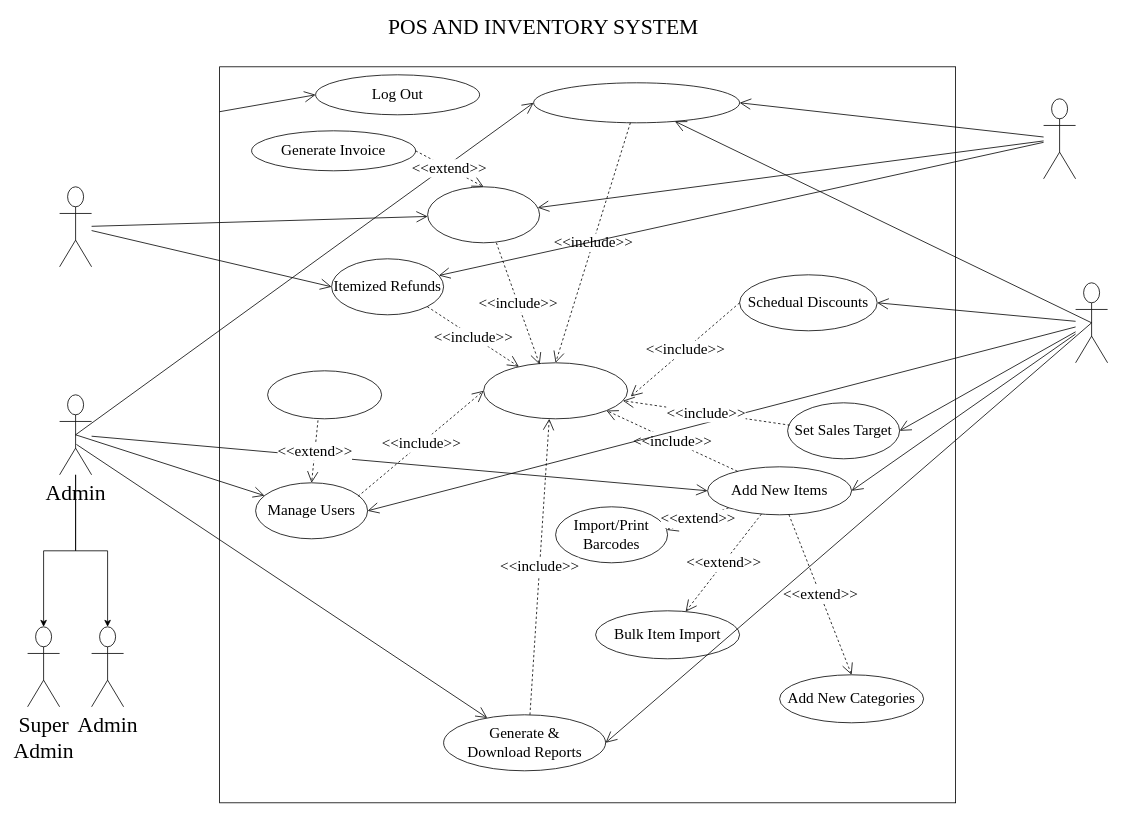
Image size: 1144x817. Some labels were removed from this diagram. The box of each missing label's shape, as (x1, y1, x2, y2) in pixels:
Assign Users: (267, 370, 382, 419)
Authorization: (483, 362, 628, 419)
Cashier: (1043, 98, 1076, 179)
Checkout: (427, 186, 540, 243)
Customer: (59, 186, 92, 267)
Login: (533, 82, 740, 123)
Manager: (1075, 282, 1108, 363)
